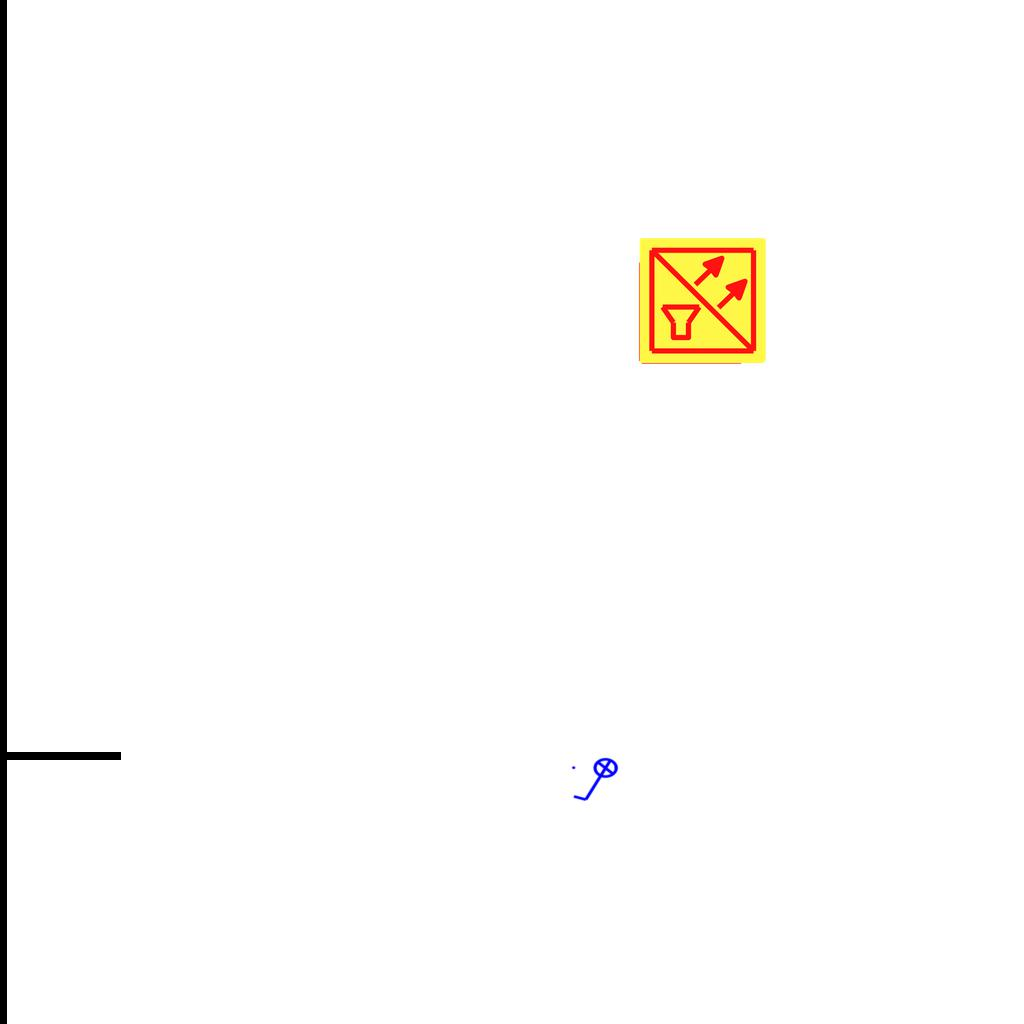Ausschalter_beleuchtet: (569, 757, 625, 805)
OKW_Multisensormelder_(Kombination_optischer_Rauch-Kahlenmonoxid_Waerme-Melder): (637, 235, 769, 367)
